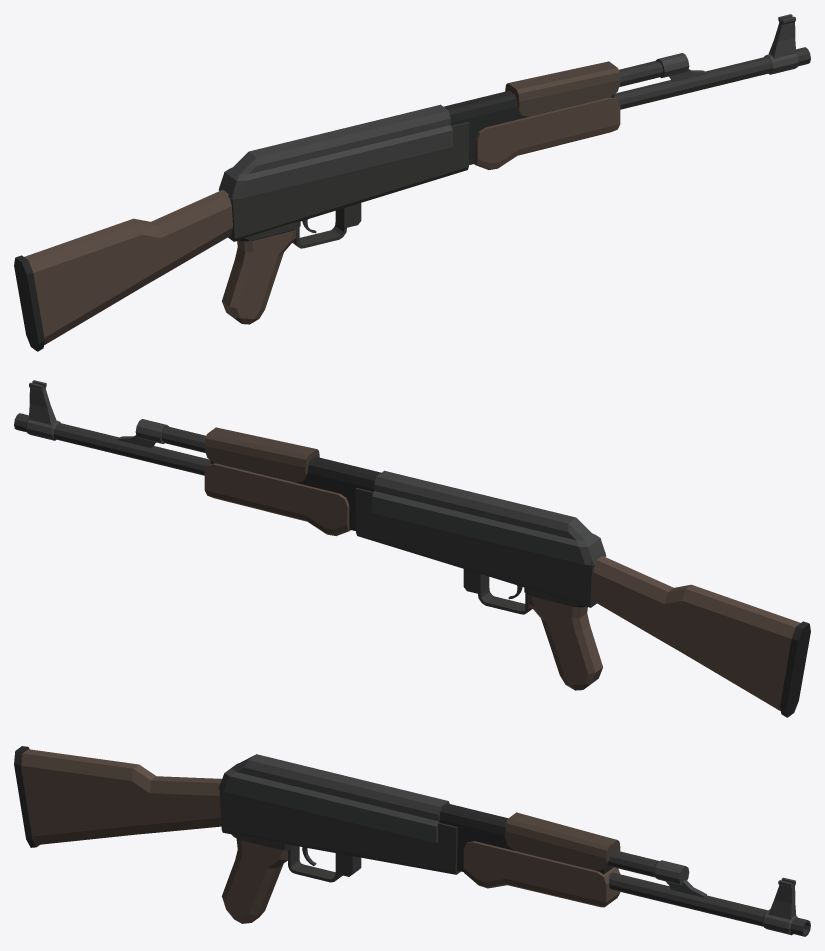
3 renders of one model, top to bottom at view 1: azimuth 30°, elevation 25°; view 2: azimuth 150°, elevation 25°; view 3: azimuth 330°, elevation 25°, orthographic.
Visible parts, largest first — view 1: AssaultRifle_2; view 2: AssaultRifle_2; view 3: AssaultRifle_2.
Boxes of the visible parts, x1=… form: AssaultRifle_2: x1=14, y1=14, x2=810, y2=351; AssaultRifle_2: x1=14, y1=380, x2=810, y2=717; AssaultRifle_2: x1=14, y1=746, x2=810, y2=936.
Size of the model in its own units: 5.42 by 1.13 by 0.196.
